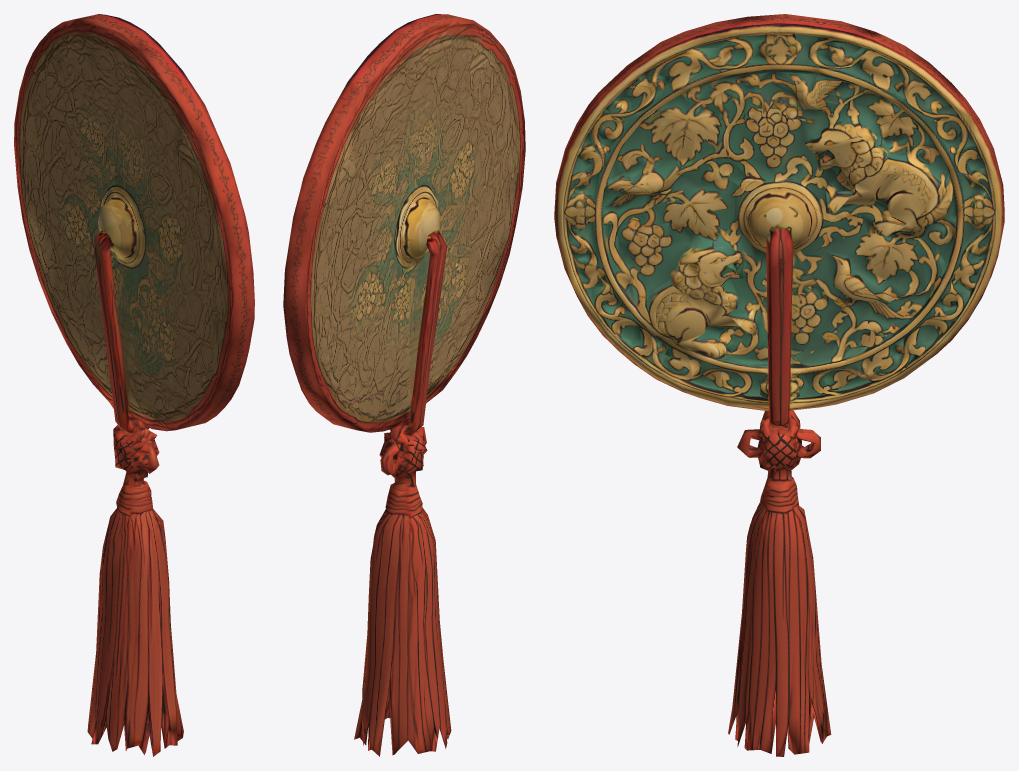
Rendered from mirror.glb.
The picture shows the model from 3 angles, left to right: view 1: azimuth 30°, elevation 25°; view 2: azimuth 150°, elevation 25°; view 3: azimuth 270°, elevation 25°; orthographic projection. The views are drawn at different scales.
Parts seen in each view (by area): view 1: tripo_node_8f180815-b44d-4a0f-bfca-b8994aa69f9a; view 2: tripo_node_8f180815-b44d-4a0f-bfca-b8994aa69f9a; view 3: tripo_node_8f180815-b44d-4a0f-bfca-b8994aa69f9a.
Part boxes in pixels (x1=…): tripo_node_8f180815-b44d-4a0f-bfca-b8994aa69f9a: x1=14, y1=14, x2=254, y2=756; tripo_node_8f180815-b44d-4a0f-bfca-b8994aa69f9a: x1=283, y1=14, x2=525, y2=756; tripo_node_8f180815-b44d-4a0f-bfca-b8994aa69f9a: x1=554, y1=14, x2=1004, y2=756.
Bounding box in the file's own units: 0.1276 × 1 × 0.5677.
1 material, 1 textured.
